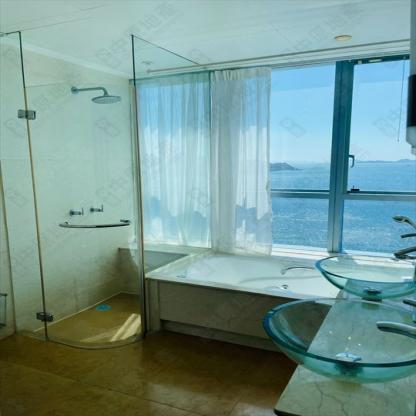Bathtub: (147, 250, 340, 352)
Toilet Sink: (269, 298, 415, 385), (320, 254, 415, 300)
Water Cubicle: (0, 19, 216, 348)
